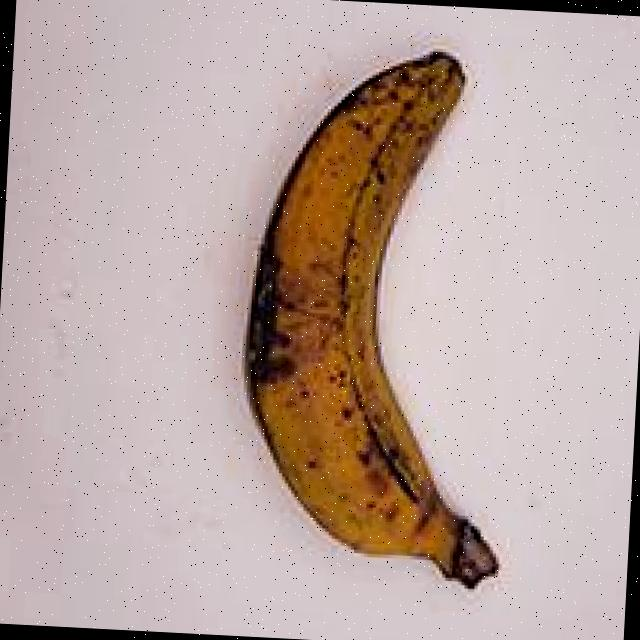Overripe: (192, 0, 570, 611)
